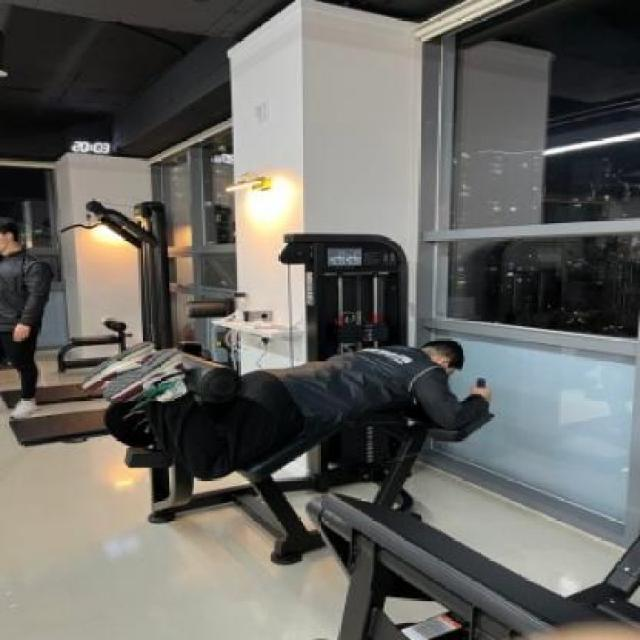reg curl machine: (81, 228, 508, 566)
